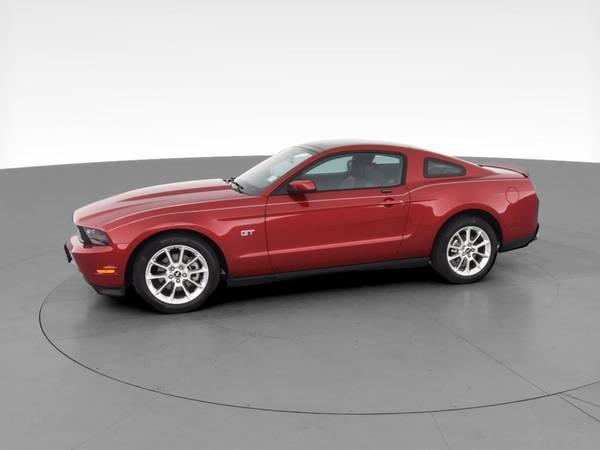Front_Bumper: (68, 237, 138, 298)
Front_Fender: (102, 197, 274, 284)
Front_Left_Door: (264, 186, 409, 273)
Front_Left_Window: (269, 150, 407, 199)
Front_Windshield: (229, 145, 319, 194)
Hood: (74, 176, 255, 228)
Left_Headlight: (76, 225, 110, 248)
Rear_Fender: (397, 154, 540, 260)
Roof: (264, 137, 499, 194)
Wheel: (134, 233, 222, 312), (434, 214, 498, 285)
